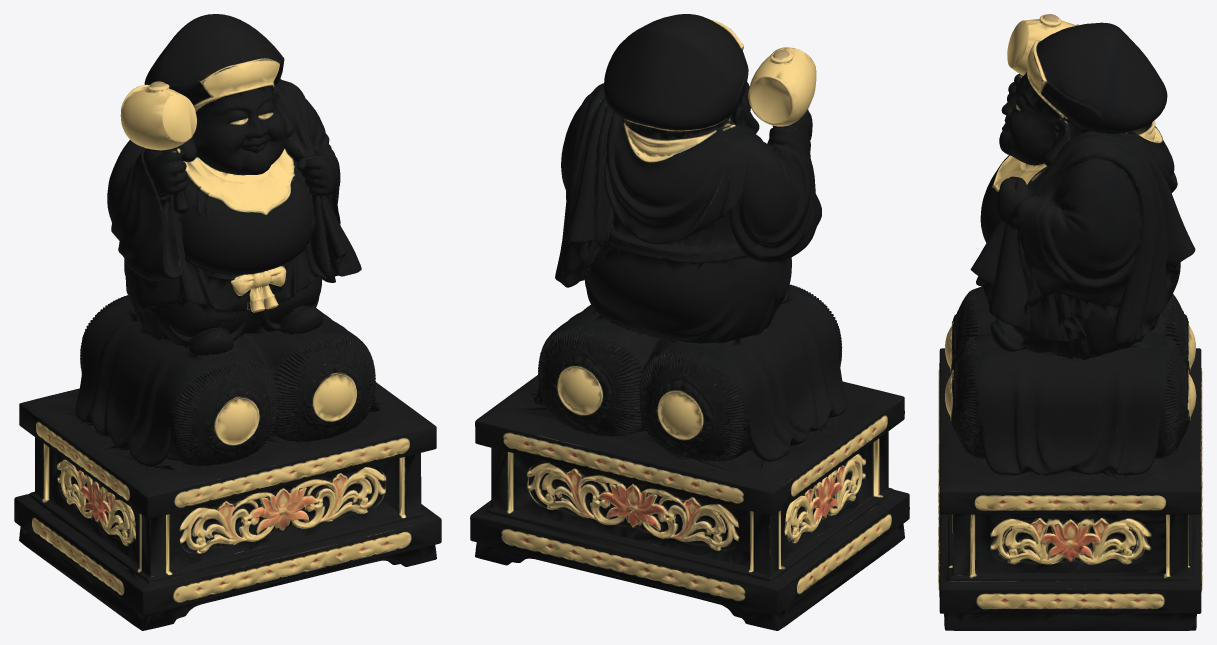
File: daikokuten.glb
3 views of the same model, side by side, from view 1: azimuth 30°, elevation 25°; view 2: azimuth 150°, elevation 25°; view 3: azimuth 270°, elevation 25° (orthographic). The views are drawn at different scales.
Parts seen in each view (by area): view 1: mesh-q; view 2: mesh-q; view 3: mesh-q.
Boxes of the visible parts, x1,y1,x2,y2 form: mesh-q: (14, 14, 441, 630); mesh-q: (470, 14, 909, 630); mesh-q: (938, 14, 1202, 630).
Size of the model in its own units: 1.15 by 1.9 by 0.8605.
1 material, 1 textured.
